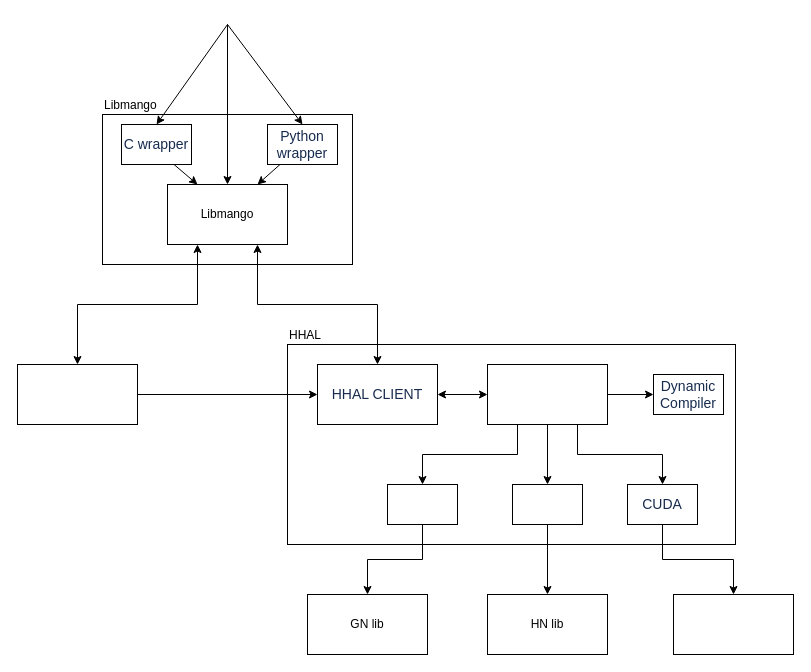
This 811x672 diagram has some shape labels left out. Here are the shapes that lost their labels. From the top down, the centre of each, then its label:
At point 77,394: "BarbequeRTRM".
At point 547,394: "HHAL SERVER".
At point 422,504: "GN".
At point 547,504: "HN".
At point 733,624: "Cuda manager".
